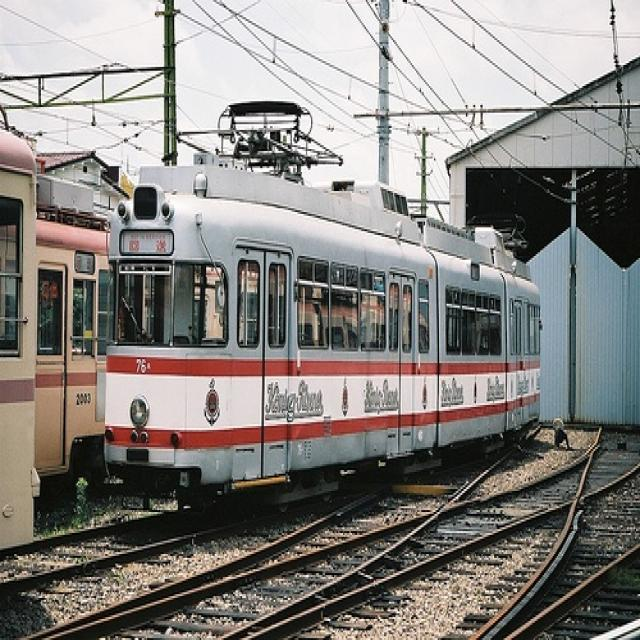train: (100, 164, 544, 518), (36, 224, 109, 491), (0, 128, 35, 556)
